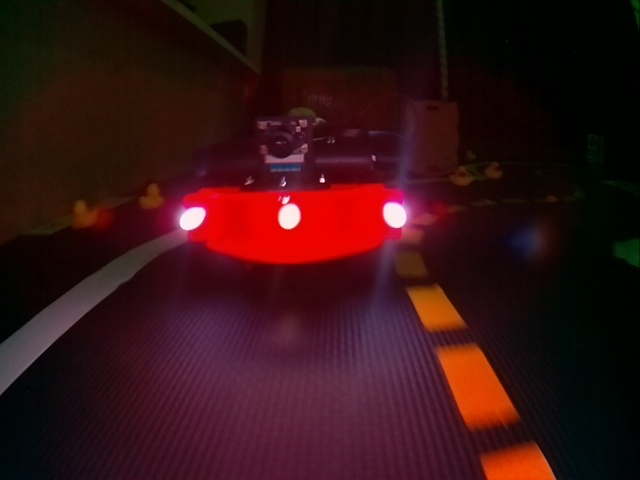Duckie: (72, 201, 99, 229), (138, 184, 165, 209), (450, 167, 470, 186), (487, 163, 502, 179)
Duckiebot: (180, 114, 408, 261)
